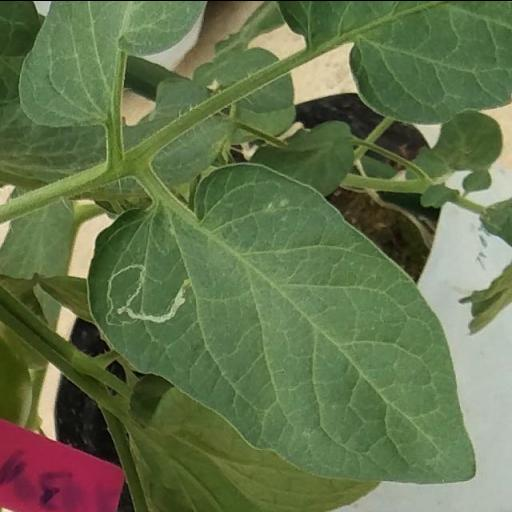Leaf Miner: (82, 160, 476, 482)
